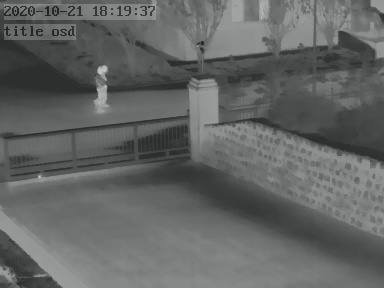person: (92, 63, 110, 110)
